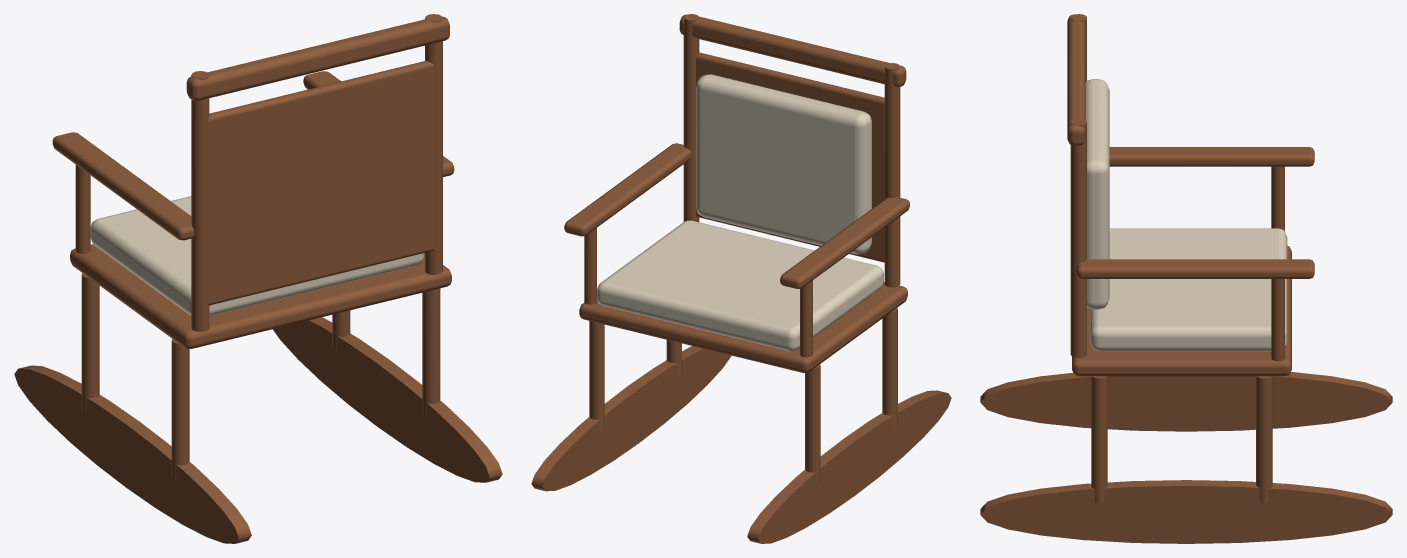
3 renders of one model, left to right at view 1: azimuth 30°, elevation 25°; view 2: azimuth 150°, elevation 25°; view 3: azimuth 270°, elevation 25°, orthographic. The views are drawn at different scales.
Parts seen in each view (by area): view 1: runner-left, seat-cushion; view 2: runner-left, seat-cushion; view 3: runner-left, seat-cushion.
Boxes of the visible parts, x1=… form: runner-left: x1=14, y1=14, x2=502, y2=543; seat-cushion: x1=90, y1=196, x2=423, y2=315; runner-left: x1=531, y1=14, x2=951, y2=543; seat-cushion: x1=597, y1=74, x2=883, y2=351; runner-left: x1=980, y1=14, x2=1392, y2=543; seat-cushion: x1=1085, y1=79, x2=1287, y2=351.
Bounding box in the file's own units: 0.64 × 1 × 0.9.
